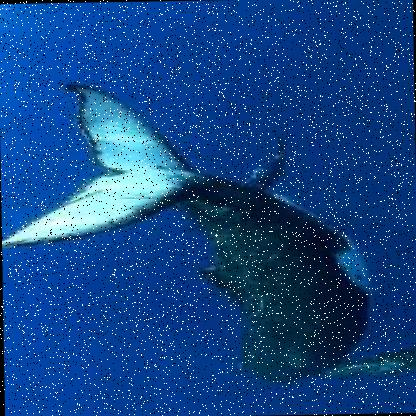blue_whale: (3, 68, 398, 394)
